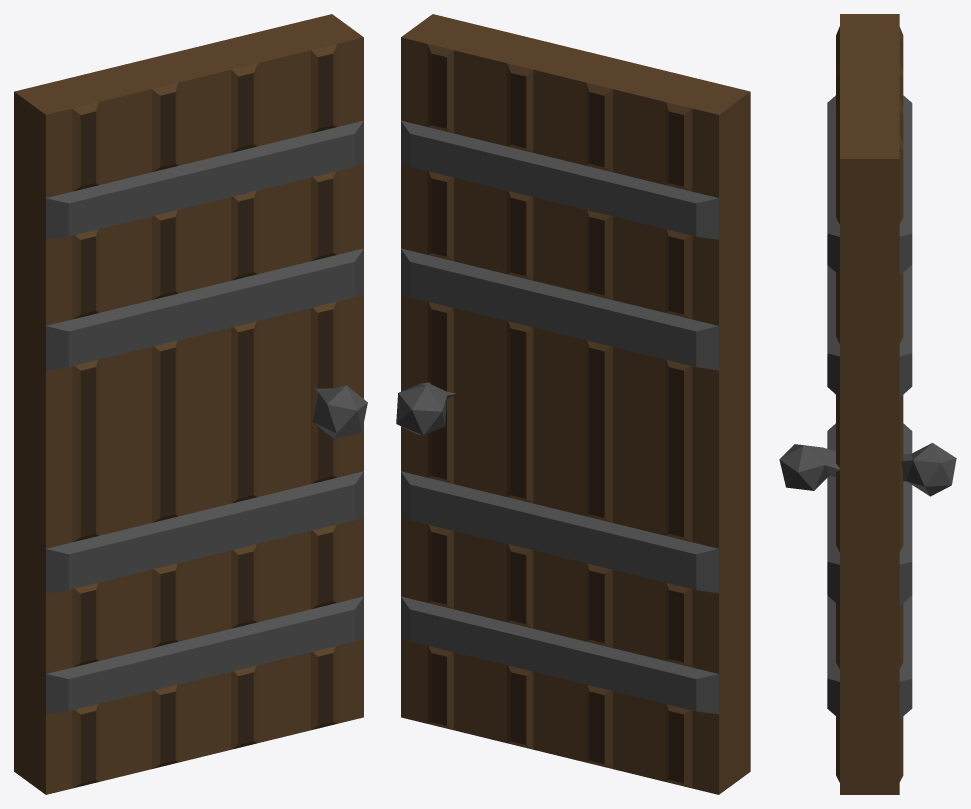
The model's file is Door.fbx.
The picture shows the model from 3 angles, left to right: view 1: azimuth 30°, elevation 25°; view 2: azimuth 150°, elevation 25°; view 3: azimuth 270°, elevation 25°; orthographic projection. The views are drawn at different scales.
Parts seen in each view (by area): view 1: Cube, Icosphere; view 2: Cube, Icosphere.001; view 3: Cube, Icosphere, Icosphere.001.
Boxes of the visible parts, x1,y1,x2,y2 form: Cube: (14,14,363,794); Icosphere: (313,385,367,439); Cube: (401,14,750,794); Icosphere.001: (396,382,455,435); Cube: (827,14,912,794); Icosphere: (779,444,839,490); Icosphere.001: (901,443,956,496).
Size of the model in its own units: 213 by 436 by 110.
